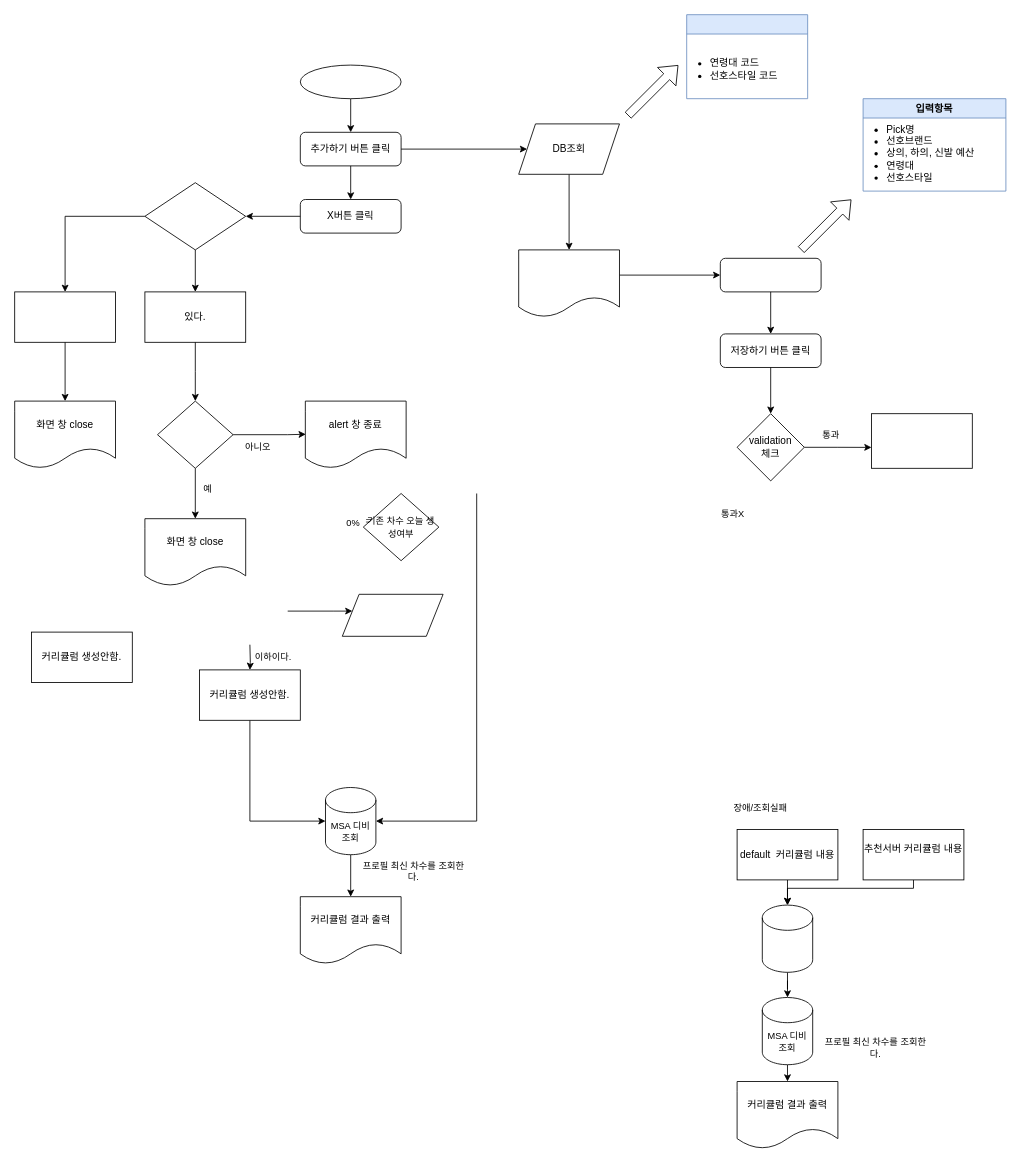
The diagram is 1021 pixels wide and 1163 high, and some of its shapes have lost their labels. The shapes that lost their labels are listed below. From the top down, each one's box as (x1, y1, x2, y2) in pixels, then its label:
(686, 14, 808, 99): 조회
(299, 64, 401, 99): My PICK
(144, 182, 246, 250): 변경된 값 존재?
(518, 249, 620, 317): 조회 데이터 출력
(719, 257, 821, 292): 항목 입력
(14, 291, 116, 342): 없다.
(157, 400, 233, 468): '종료하시겠습니까?' alert창 생성
(871, 413, 972, 468): 진단 커리큘럼 추천 서버 조회
(341, 593, 443, 636): 스텝 3으로 간다.
(761, 904, 813, 972): MSA 디비 저장
